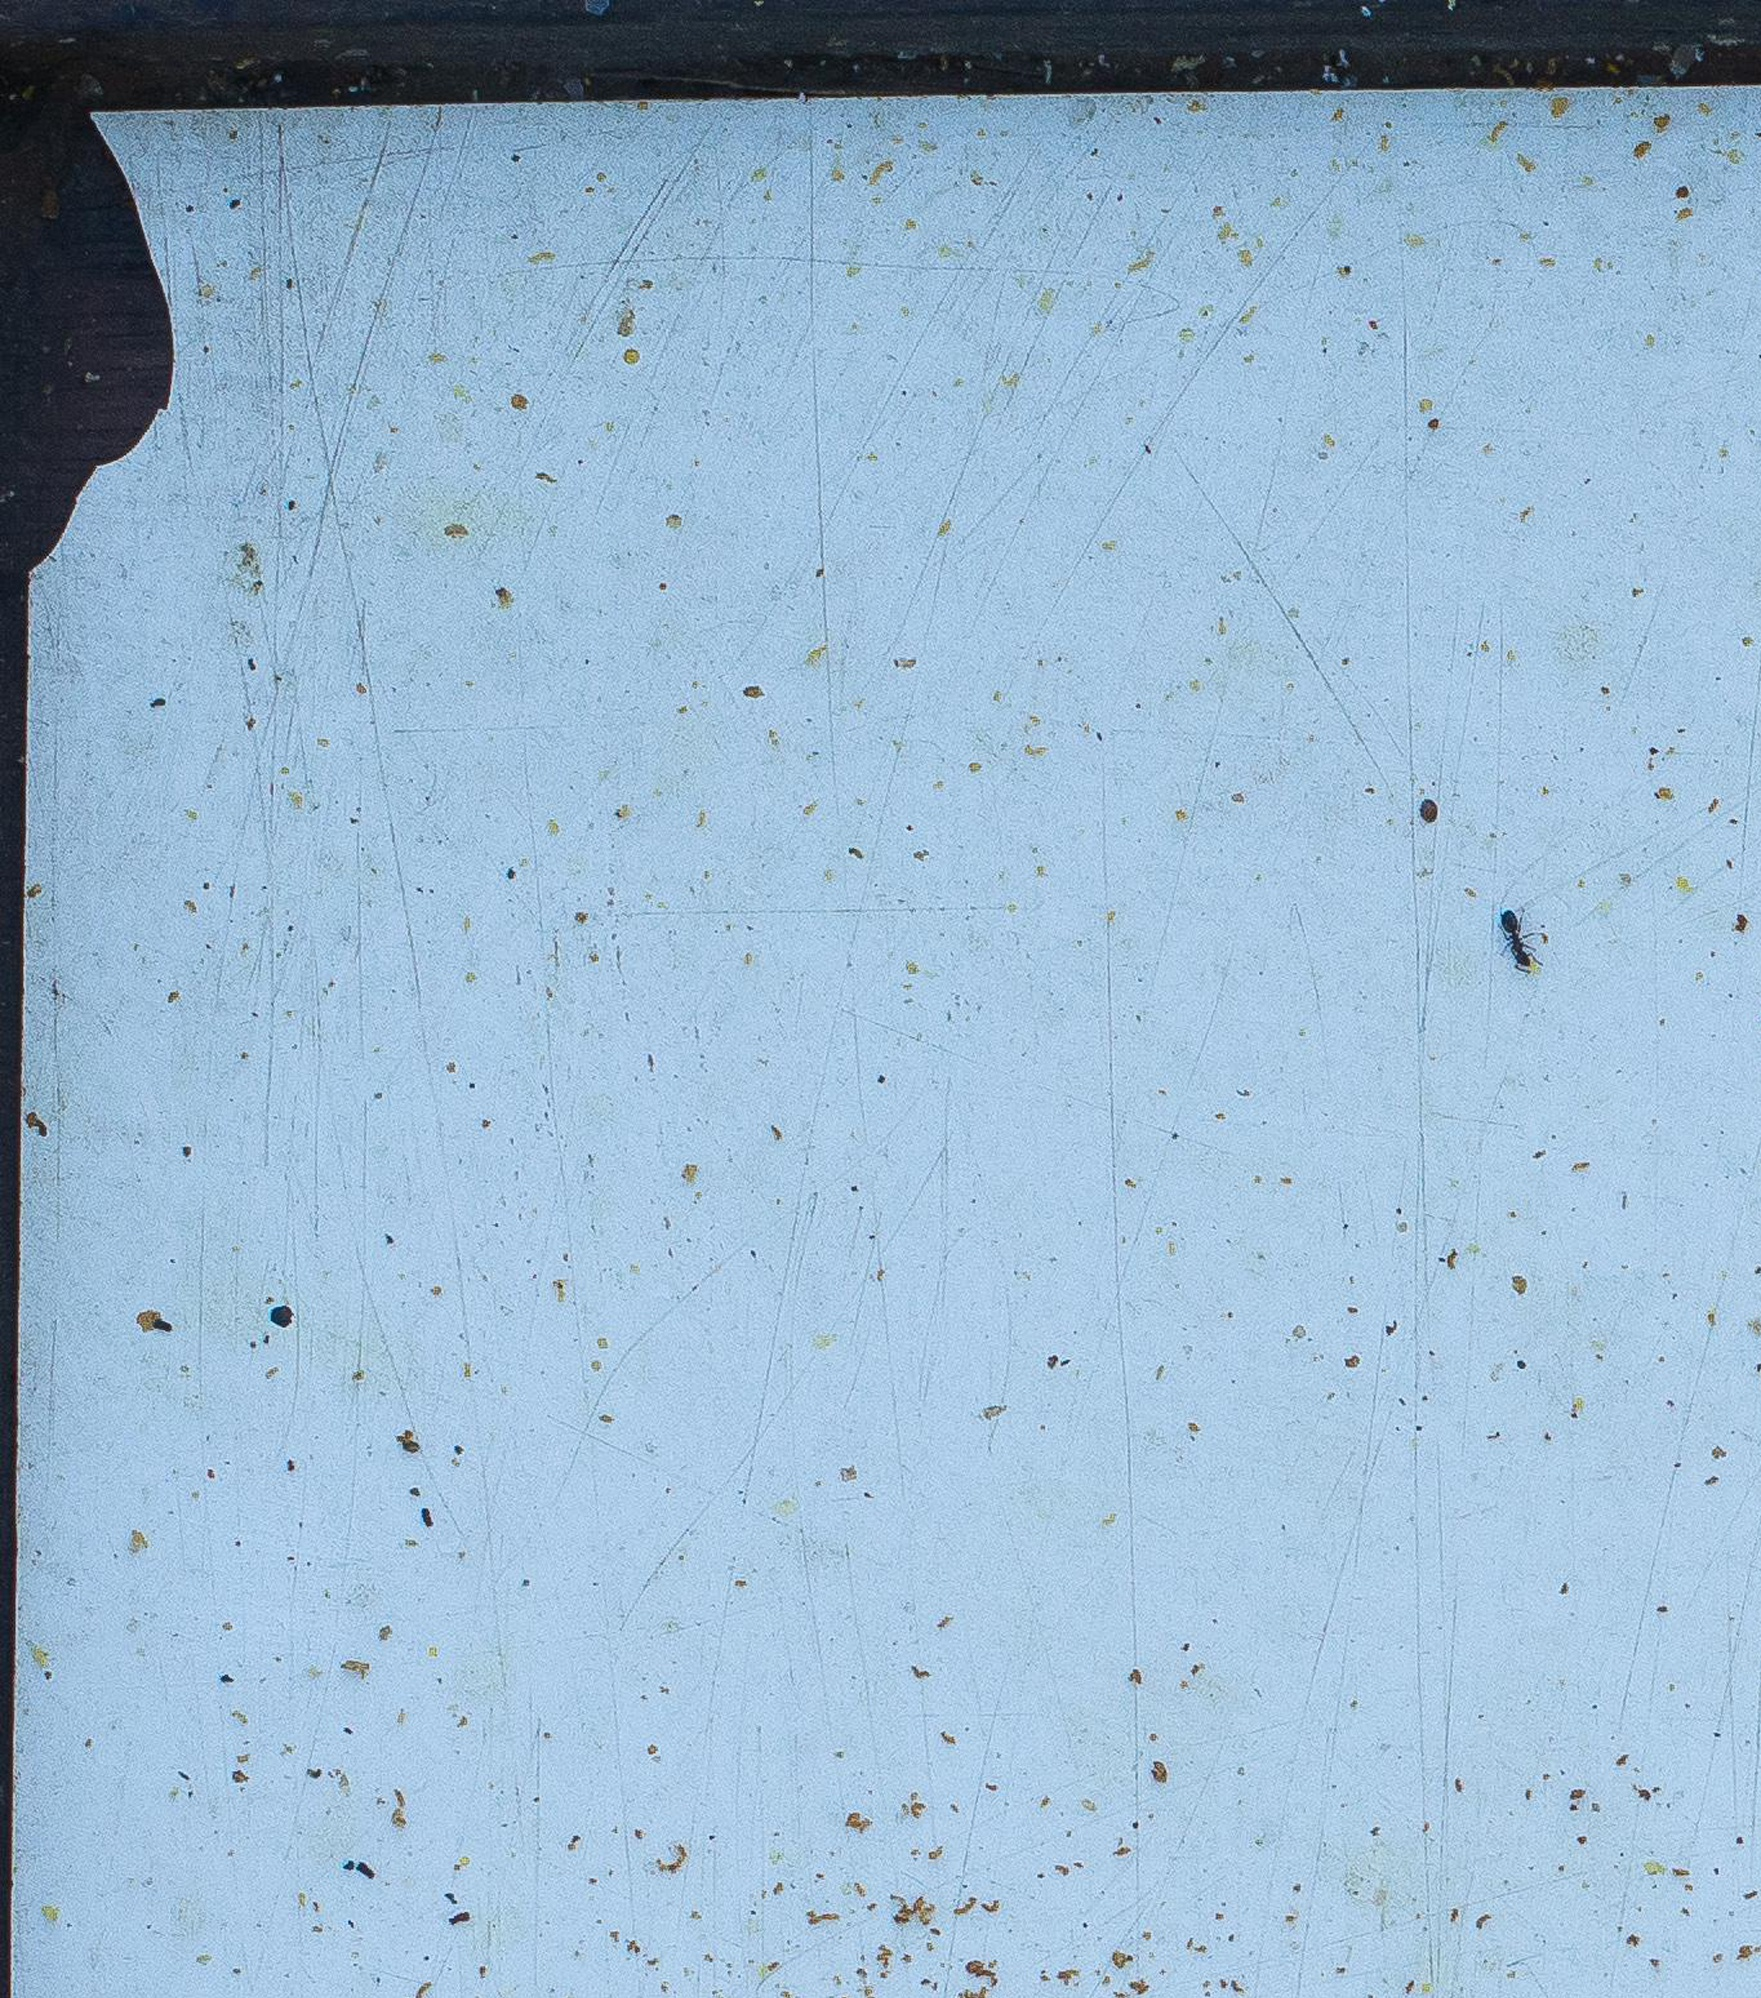Varroa: (1411, 794, 1443, 833)
